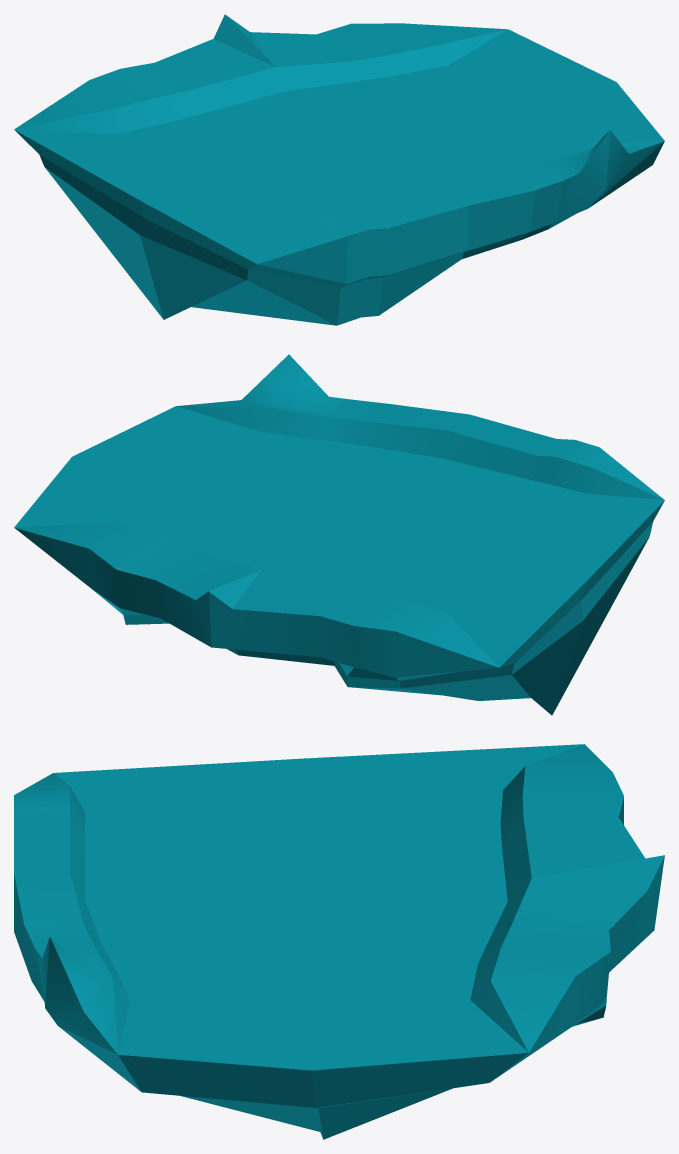
File: Sml_2_NoC.fbx
3 renders of one model, top to bottom at view 1: azimuth 30°, elevation 25°; view 2: azimuth 150°, elevation 25°; view 3: azimuth 270°, elevation 25°, orthographic. The views are drawn at different scales.
Visible parts, largest first — view 1: Sml_2_NoC; view 2: Sml_2_NoC; view 3: Sml_2_NoC.
Boxes of the visible parts, left/top/right/bottom form: Sml_2_NoC: left=14, top=14, right=664, bottom=325; Sml_2_NoC: left=14, top=354, right=664, bottom=715; Sml_2_NoC: left=14, top=744, right=664, bottom=1139.
Bounding box in the file's own units: 1.62 × 0.5655 × 1.37.
